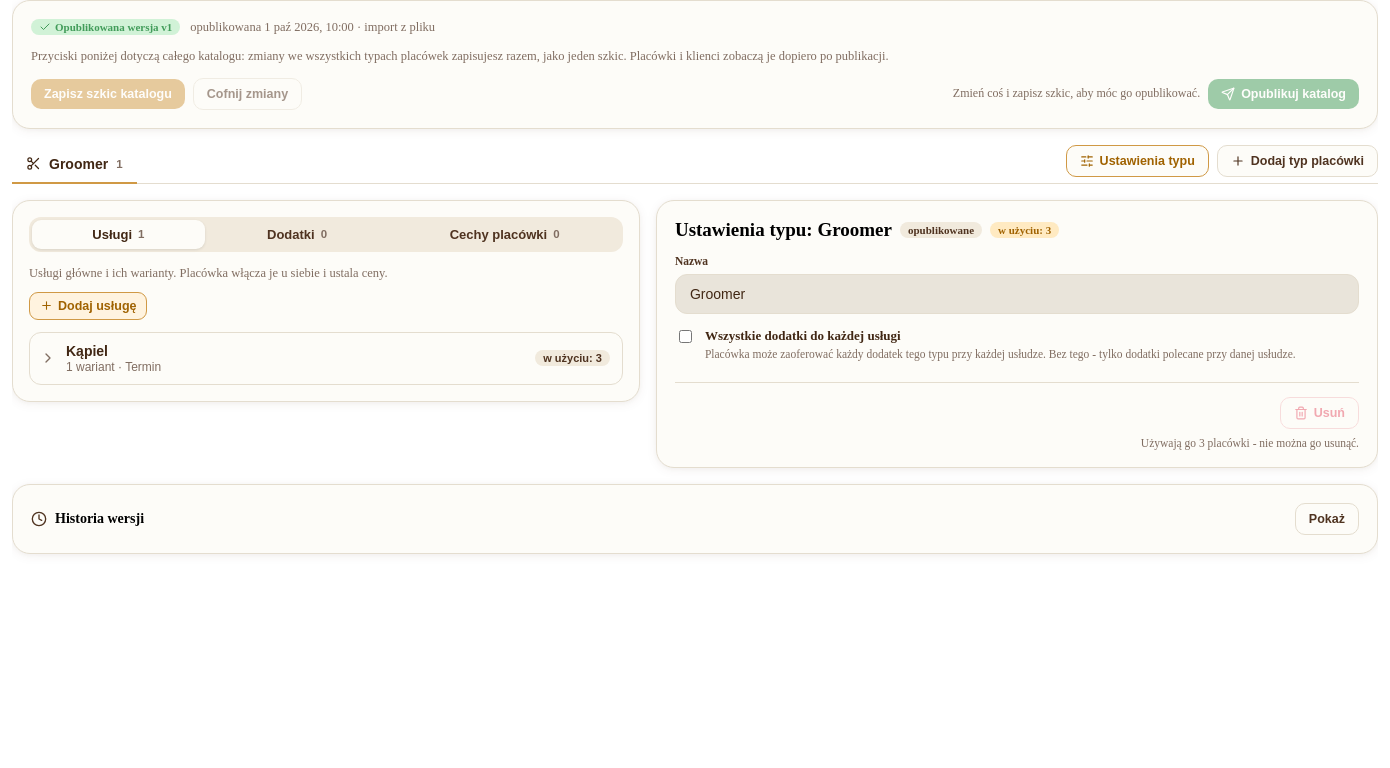
Test case: Katalog usług › switches between services, add-ons and features of a type
The width and height of the screenshot is (1390, 768).
Expected: the text "Opublikowana wersja v1" is shown, left=31, top=19, right=180, bottom=35
Expected: the button "Dodaj usługę" is shown, left=29, top=292, right=148, bottom=320
Click the tab "Cechy placówki 0" at (505, 234), box left=389, top=220, right=620, bottom=249
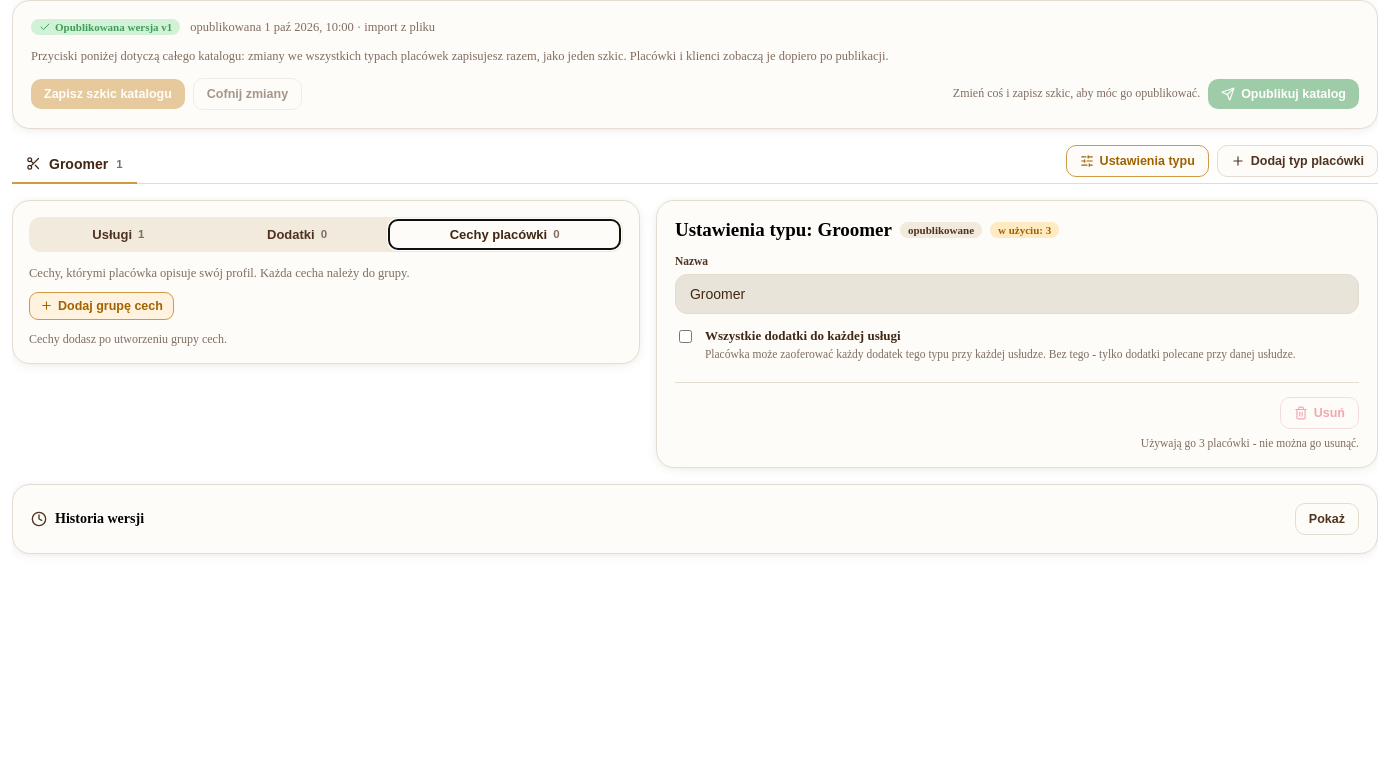
Now the button "Dodaj usługę" is gone
Now the button "Dodaj grupę cech" is shown, box left=29, top=292, right=174, bottom=320
